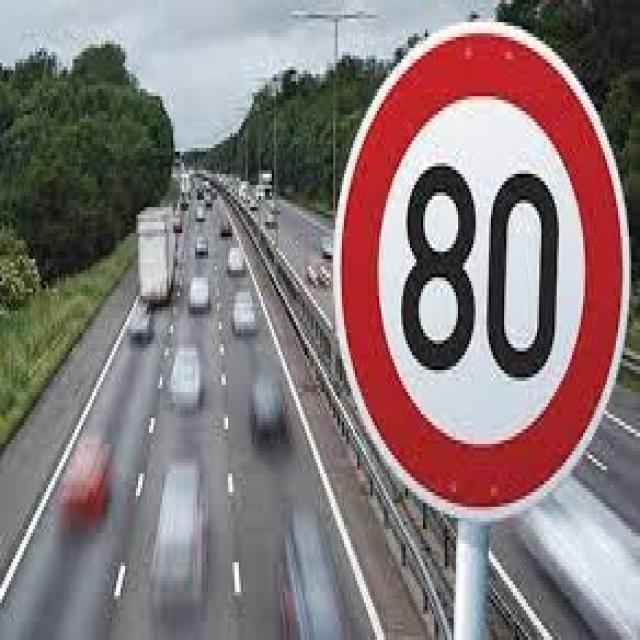speed_limit_80: (327, 17, 634, 527)
